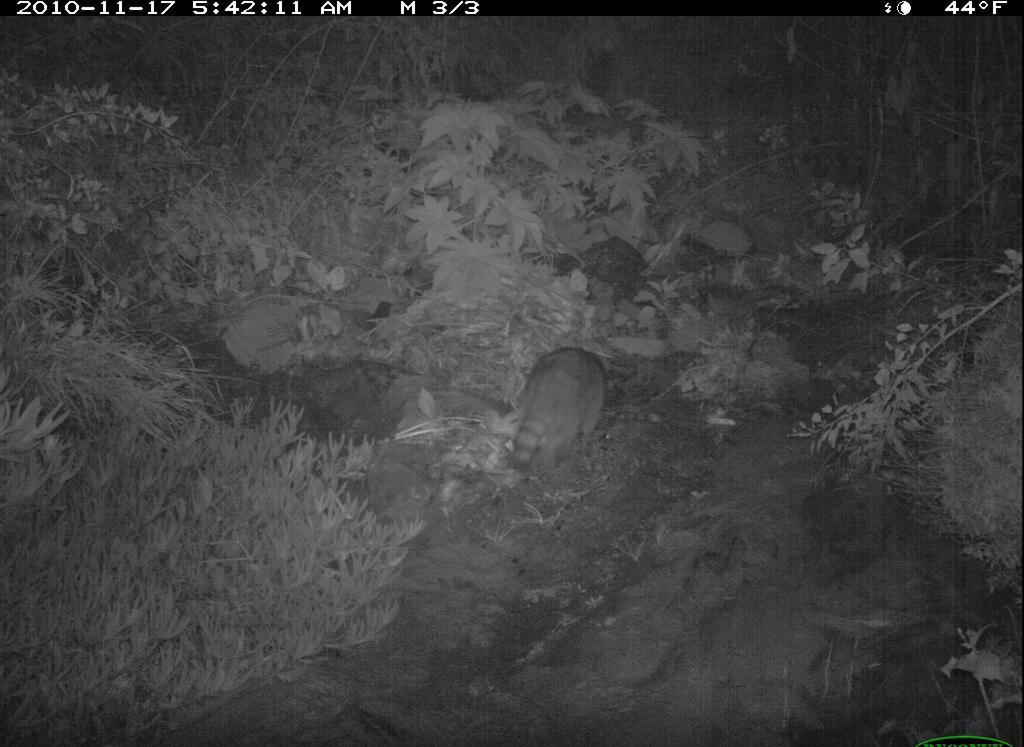raccoon: (504, 342, 616, 482)
